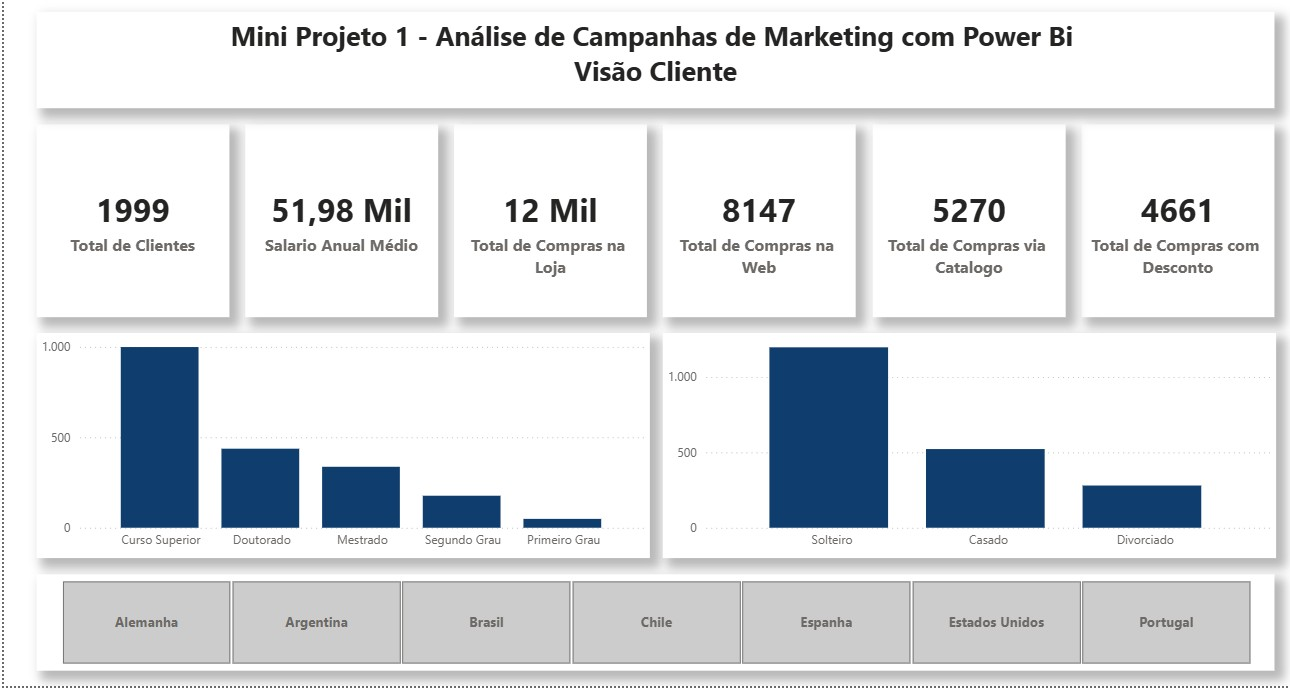

Layout of this report page (visuals, bound fields, positions):
{"tool":"powerbi","page":{"name":"Visão Cliente","canvas":[1280,720],"ordinal":0},"visuals":[{"type":"card","fields":{"Values":["CountNonNull(Dados Marketing.ID)"]},"box":[32,160,192,192],"z":0},{"type":"card","fields":{"Values":["Avg(Dados Marketing.Salario Anual)"]},"box":[240,160,192,192],"z":1000},{"type":"card","fields":{"Values":["Sum(Dados Marketing.Numero de Compras na Loja)"]},"box":[448,160,192,192],"z":2000},{"type":"card","fields":{"Values":["Sum(Dados Marketing.Numero de Compras na Web)"]},"box":[656,160,192,192],"z":3000},{"type":"card","fields":{"Values":["Sum(Dados Marketing.Numero de Compras com Desconto)"]},"box":[1072,160,192,192],"z":4000},{"type":"card","fields":{"Values":["Sum(Dados Marketing.Numero de Compras via Catalogo)"]},"box":[864,160,192,192],"z":5000},{"type":"textbox","box":[32,48,1232,96],"z":6000},{"type":"clusteredColumnChart","fields":{"Category":["Dados Marketing.Escolaridade"],"Y":["CountNonNull(Dados Marketing.ID)"]},"box":[32,368,610,224],"z":7000},{"type":"clusteredColumnChart","fields":{"Category":["Dados Marketing.Estado Civil"],"Y":["CountNonNull(Dados Marketing.ID)"]},"box":[656,368,610,224],"z":8000},{"type":"slicer","fields":{"Values":["Dados Marketing.Pais"]},"box":[32,608,1232,96],"z":9000}]}

Visuals, with their boxes on the page's 1280x720 design canvas (x1, y1, x2, y2). These are canvas units, not pixel positions in the 1290x690 screenshot, which may show the page scaled, cropped or inside an application window:
card - CountNonNull(Dados Marketing.ID): 32,160,224,352
card - Avg(Dados Marketing.Salario Anual): 240,160,432,352
card - Sum(Dados Marketing.Numero de Compras na Loja): 448,160,640,352
card - Sum(Dados Marketing.Numero de Compras na Web): 656,160,848,352
card - Sum(Dados Marketing.Numero de Compras com Desconto): 1072,160,1264,352
card - Sum(Dados Marketing.Numero de Compras via Catalogo): 864,160,1056,352
textbox: 32,48,1264,144
clusteredColumnChart - Dados Marketing.Escolaridade x CountNonNull(Dados Marketing.ID): 32,368,642,592
clusteredColumnChart - Dados Marketing.Estado Civil x CountNonNull(Dados Marketing.ID): 656,368,1266,592
slicer - Dados Marketing.Pais: 32,608,1264,704
